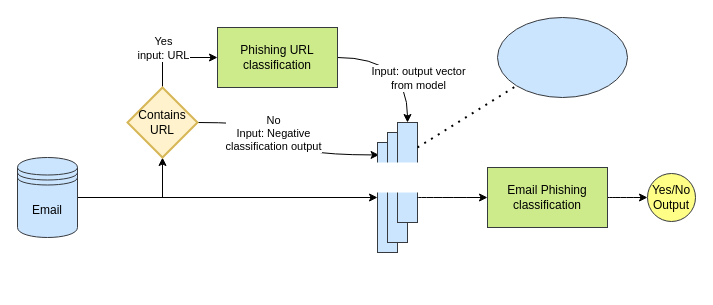
Image size: 713x305. Some labels were removed from this diagram. Here are the shapes that lost their labels. From the top down, the centre of each, then its label:
At point 562,57: "This is creating the feature vector discover in the training phase".
At point 397,177: "Feature Vectors".
